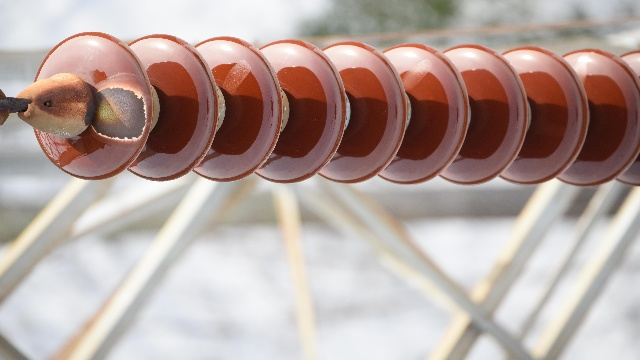insulator_unspecified: (32, 32, 639, 185)
pollution_flashover_local: (88, 87, 150, 143)
